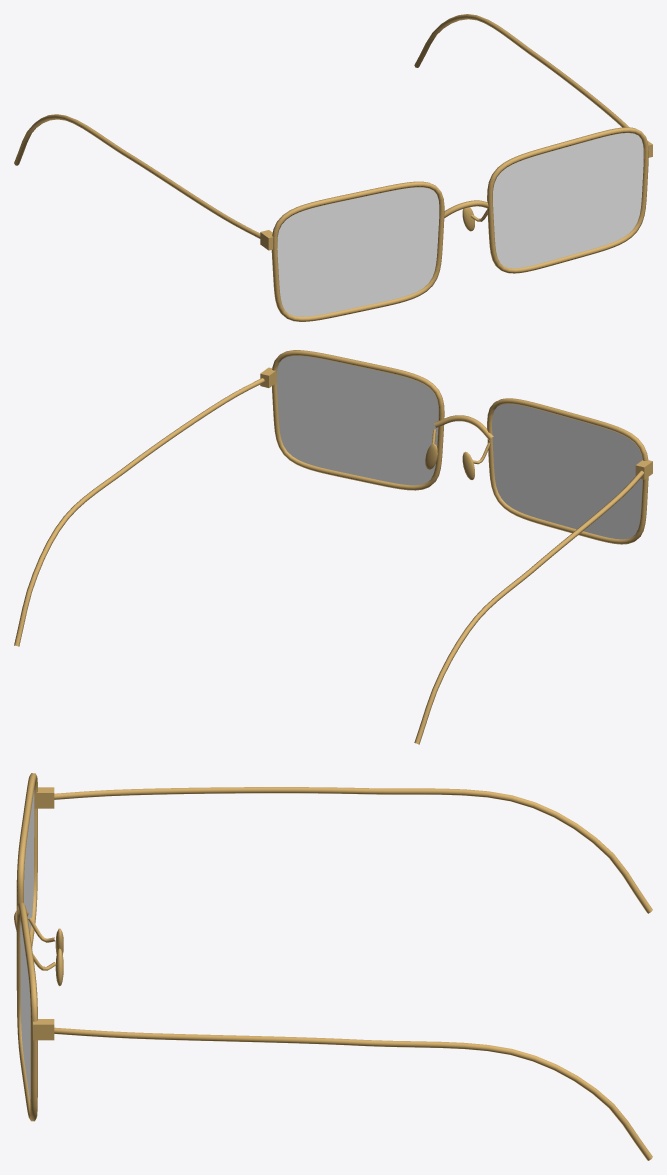
The model's file is BM-M11_Kabir_Gold.glb.
The picture shows the model from 3 angles, top to bottom: view 1: azimuth 30°, elevation 25°; view 2: azimuth 150°, elevation 25°; view 3: azimuth 270°, elevation 25°; orthographic projection. The views are drawn at different scales.
Visible parts, largest first — view 1: Kabir_Gold_Lenses, Kabir_Gold_Metal; view 2: Kabir_Gold_Lenses, Kabir_Gold_Metal; view 3: Kabir_Gold_Metal, Kabir_Gold_Lenses.
Part boxes in pixels (x1,y1,x2,y2): Kabir_Gold_Lenses: [277, 133, 643, 316]; Kabir_Gold_Metal: [14, 14, 652, 321]; Kabir_Gold_Lenses: [277, 356, 642, 539]; Kabir_Gold_Metal: [14, 350, 652, 744]; Kabir_Gold_Metal: [14, 773, 652, 1160]; Kabir_Gold_Lenses: [20, 790, 34, 1101].
Size of the model in its own units: 0.1404 by 0.0418 by 0.148.
